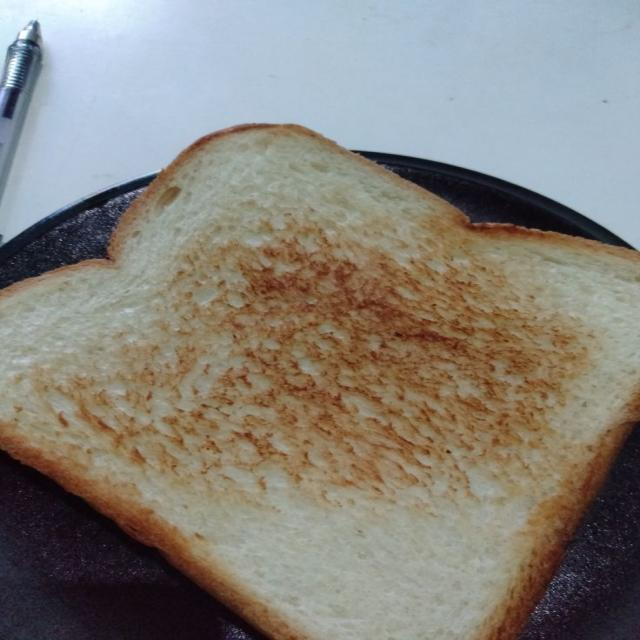toast bread: (0, 125, 639, 639)
